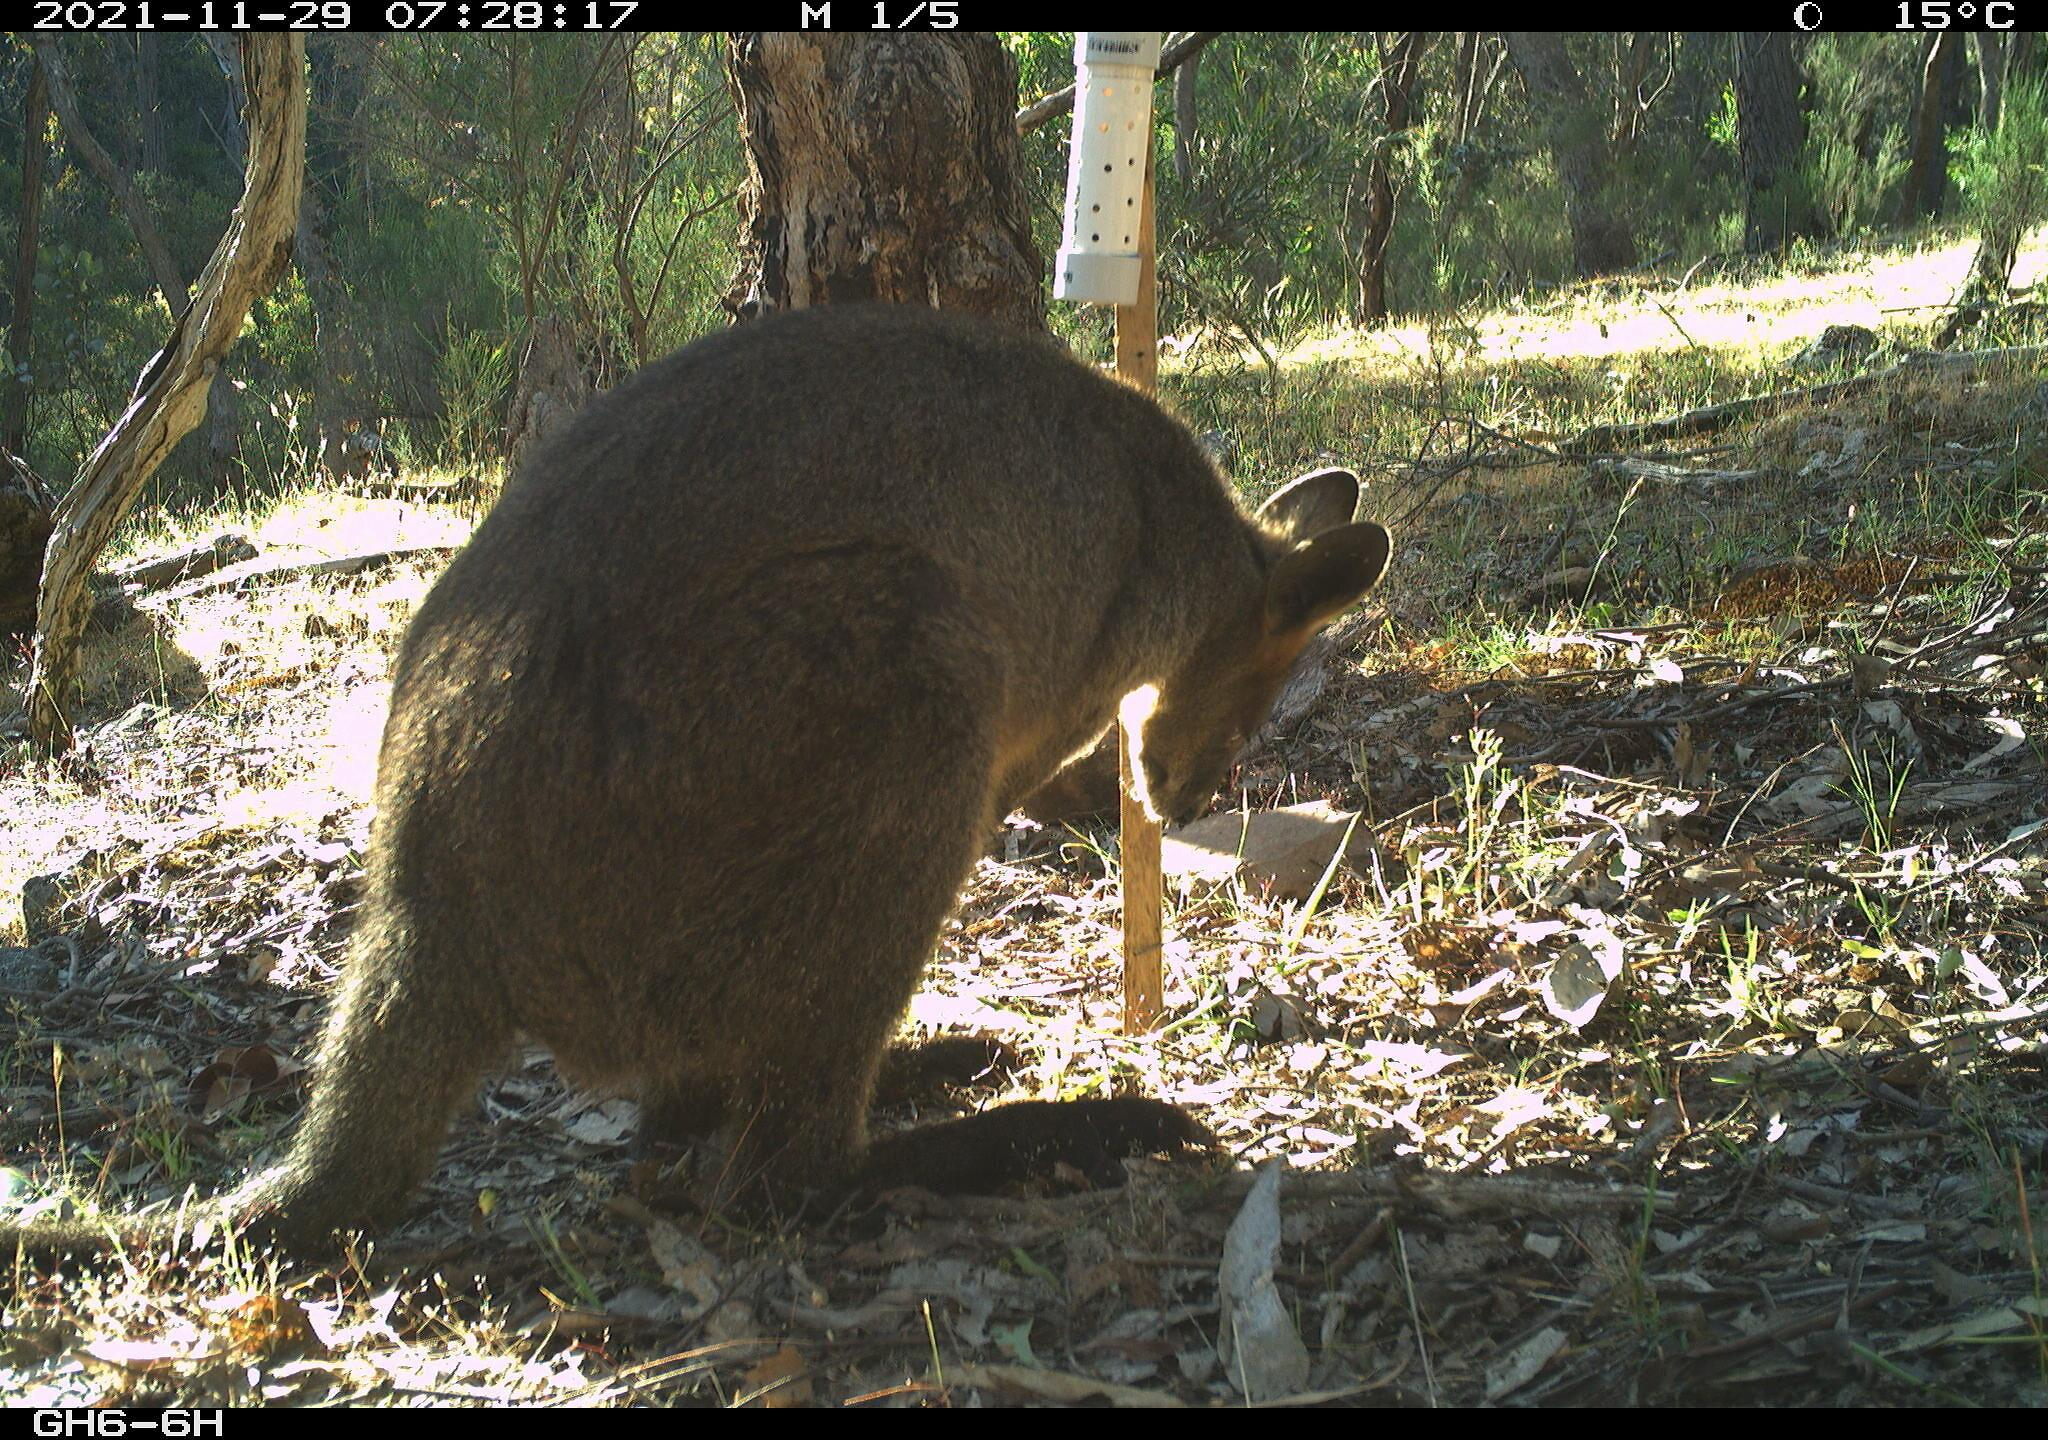Swamp wallaby: (0, 295, 1395, 1279)
